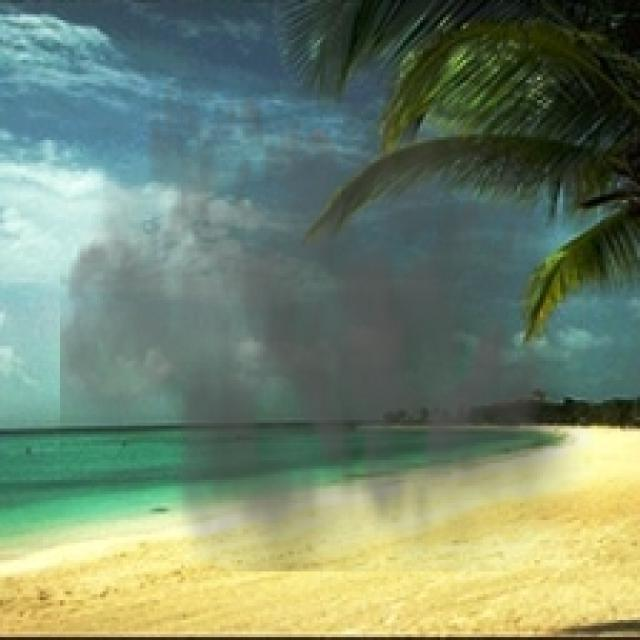Smoke: (60, 29, 594, 572)
